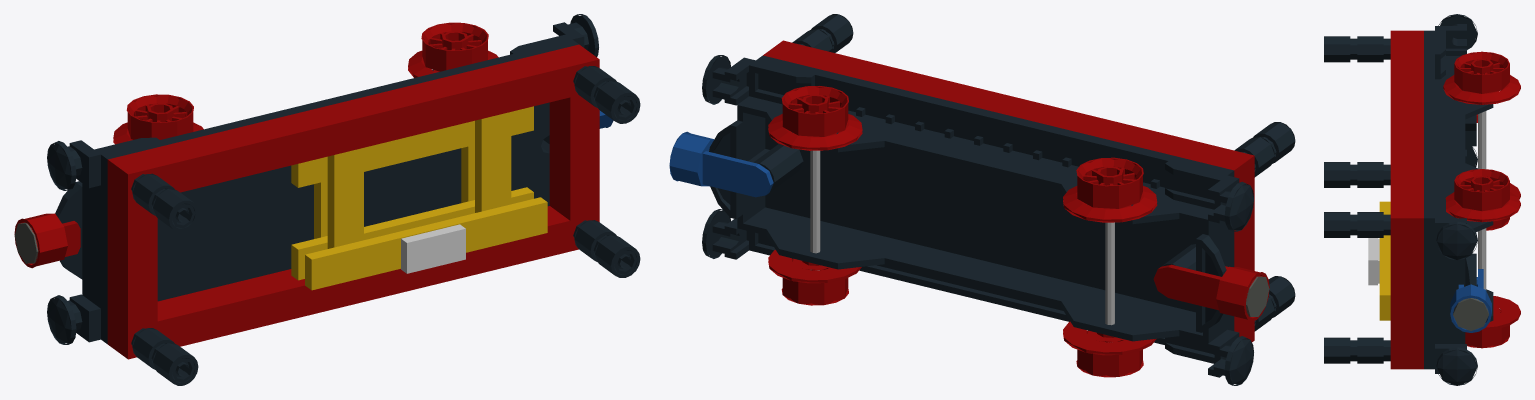
Rendered from flat-wagon.glb.
3 views of the same model, side by side, from view 1: azimuth 30°, elevation 25°; view 2: azimuth 150°, elevation 25°; view 3: azimuth 270°, elevation 25° (orthographic). The views are drawn at different scales.
Size of the model in its own units: 157 by 52 by 56.8.
